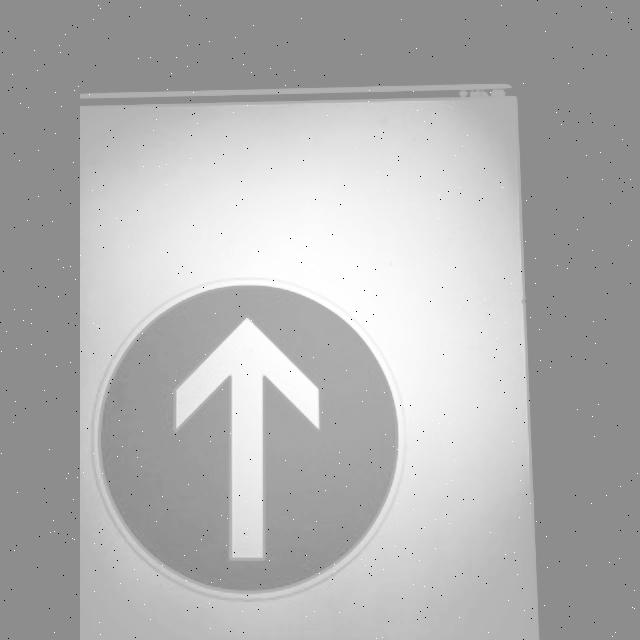GO FORWARD: (98, 282, 400, 592)
